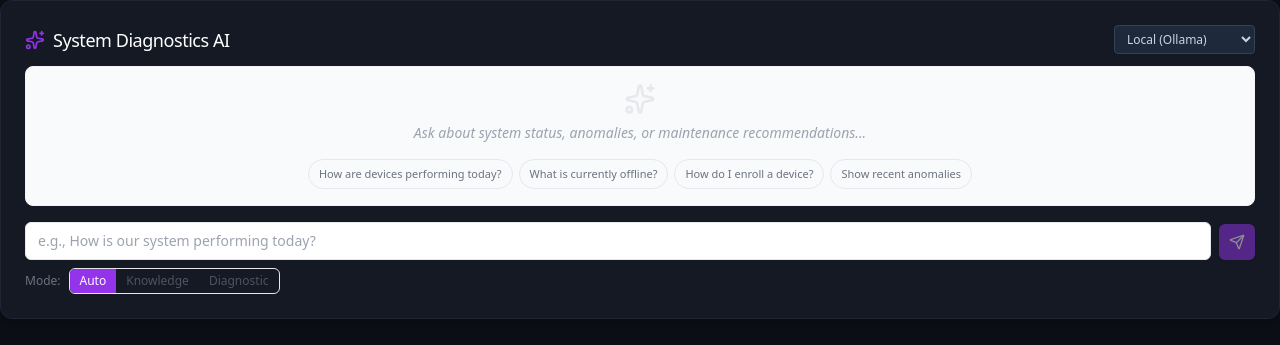
Scenario: AskAIWidget Stage F (UI regression) › renders a Details control for diagnostic answers
The image size is (1280, 345).
Step 1. Type "What is the system status?" into the field → (618, 241), box [25,222,1211,260]
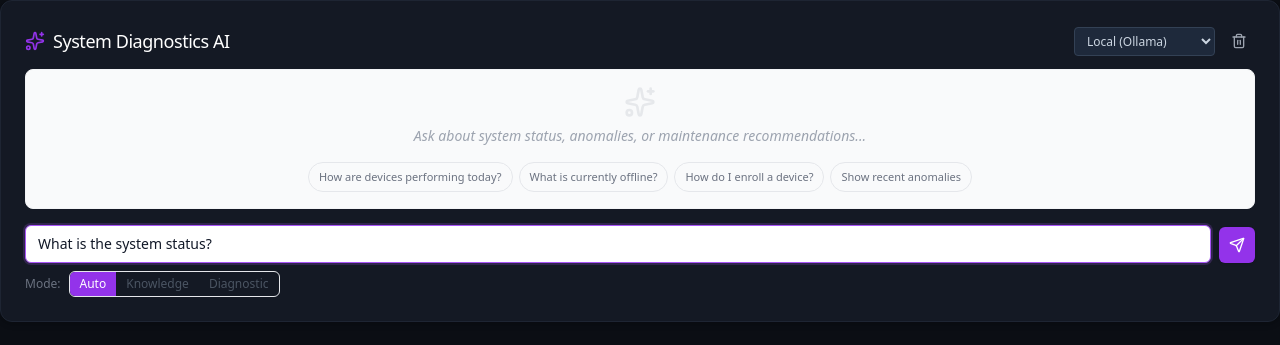
Step 2. Click the button named "Send" → (1237, 245), box [1219,227,1255,263]
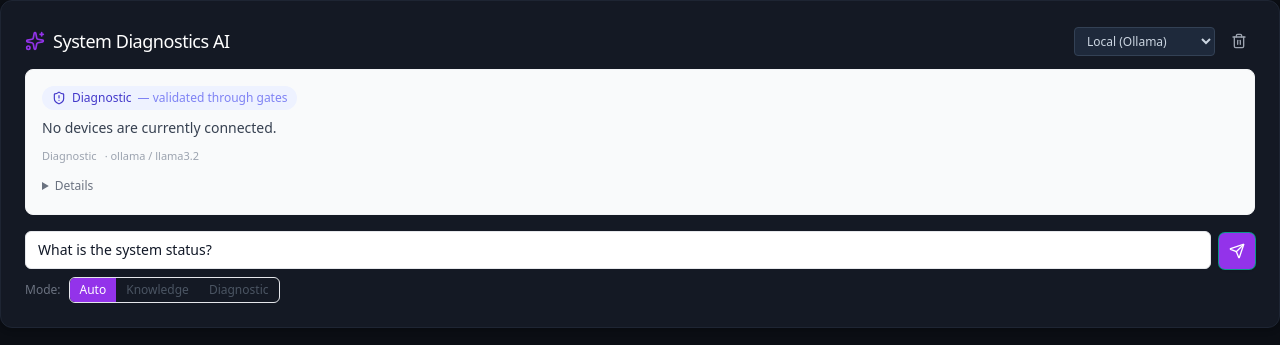
Expected: the heading "Details" is shown, [55,177,93,194]
